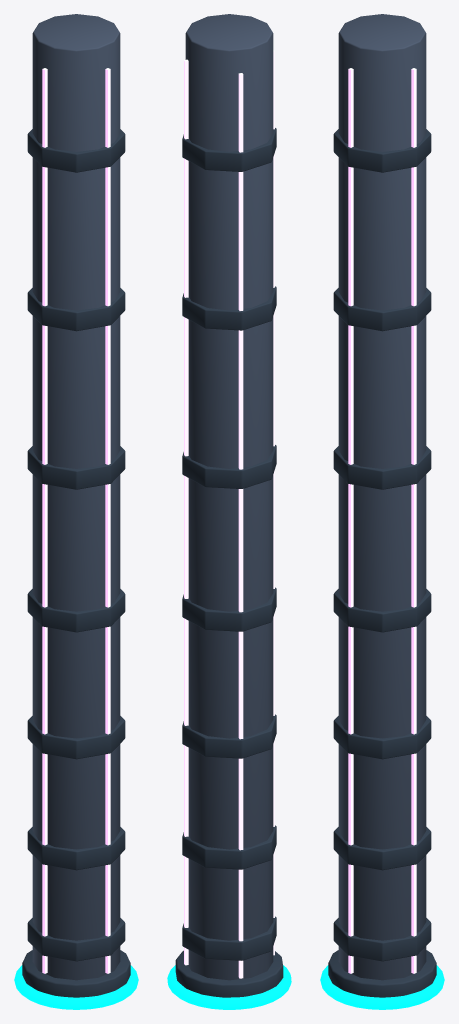
Rendered from cyber_pipe.glb.
3 views of the same model, side by side, from view 1: azimuth 90°, elevation 25°; view 2: azimuth 150°, elevation 25°; view 3: azimuth 270°, elevation 25° (orthographic).
Visible parts, largest first — view 1: ConduitColumn, PlasmaStrip_1, PlasmaStrip_2, CollarRing, ArmorRib_3, ArmorRib_0, ArmorRib_5, ArmorRib_1, ArmorRib_2, ArmorRib_4, ArmorRib_6, CollarGlow; view 2: ConduitColumn, PlasmaStrip_1, PlasmaStrip_0, CollarRing, ArmorRib_1, ArmorRib_4, ArmorRib_2, ArmorRib_0, ArmorRib_3, ArmorRib_5, ArmorRib_6, CollarGlow (+1 smaller); view 3: ConduitColumn, PlasmaStrip_0, PlasmaStrip_3, CollarRing, ArmorRib_3, ArmorRib_0, ArmorRib_5, ArmorRib_1, ArmorRib_2, ArmorRib_4, ArmorRib_6, CollarGlow.
Part boxes in pixels (left/top/right/bottom): ConduitColumn: left=32, top=14, right=120, bottom=980; PlasmaStrip_1: left=42, top=68, right=47, bottom=973; PlasmaStrip_2: left=105, top=68, right=110, bottom=973; CollarRing: left=22, top=950, right=130, bottom=997; ArmorRib_3: left=27, top=589, right=125, bottom=632; ArmorRib_0: left=27, top=918, right=125, bottom=961; ArmorRib_5: left=27, top=288, right=125, bottom=331; ArmorRib_1: left=27, top=827, right=125, bottom=870; ArmorRib_2: left=27, top=716, right=125, bottom=759; ArmorRib_4: left=27, top=446, right=125, bottom=489; ArmorRib_6: left=27, top=129, right=125, bottom=172; CollarGlow: left=14, top=965, right=138, bottom=1009; ConduitColumn: left=185, top=14, right=273, bottom=980; PlasmaStrip_1: left=238, top=73, right=243, bottom=978; PlasmaStrip_0: left=184, top=59, right=188, bottom=965; CollarRing: left=175, top=950, right=283, bottom=997; ArmorRib_1: left=182, top=825, right=276, bottom=869; ArmorRib_4: left=182, top=445, right=276, bottom=488; ArmorRib_2: left=182, top=714, right=276, bottom=758; ArmorRib_0: left=182, top=916, right=276, bottom=960; ArmorRib_3: left=182, top=587, right=276, bottom=631; ArmorRib_5: left=182, top=286, right=276, bottom=330; ArmorRib_6: left=182, top=128, right=276, bottom=171; CollarGlow: left=167, top=965, right=291, bottom=1009; ConduitColumn: left=338, top=14, right=426, bottom=980; PlasmaStrip_0: left=411, top=68, right=416, bottom=973; PlasmaStrip_3: left=348, top=68, right=353, bottom=973; CollarRing: left=328, top=950, right=436, bottom=997; ArmorRib_3: left=333, top=589, right=431, bottom=632; ArmorRib_0: left=333, top=918, right=431, bottom=961; ArmorRib_5: left=333, top=288, right=431, bottom=331; ArmorRib_1: left=333, top=827, right=431, bottom=870; ArmorRib_2: left=333, top=716, right=431, bottom=759; ArmorRib_4: left=333, top=446, right=431, bottom=489; ArmorRib_6: left=333, top=129, right=431, bottom=172; CollarGlow: left=320, top=965, right=444, bottom=1009.
Size of the model in its own units: 1.42 by 12.03 by 1.42.
